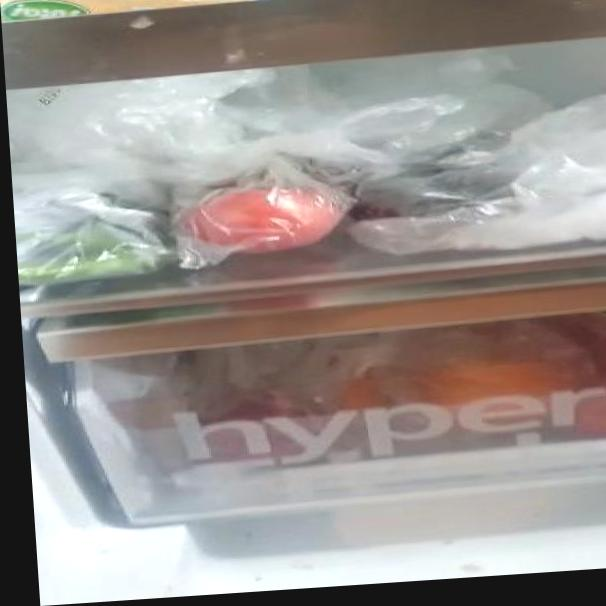tomato: (194, 181, 344, 257)
